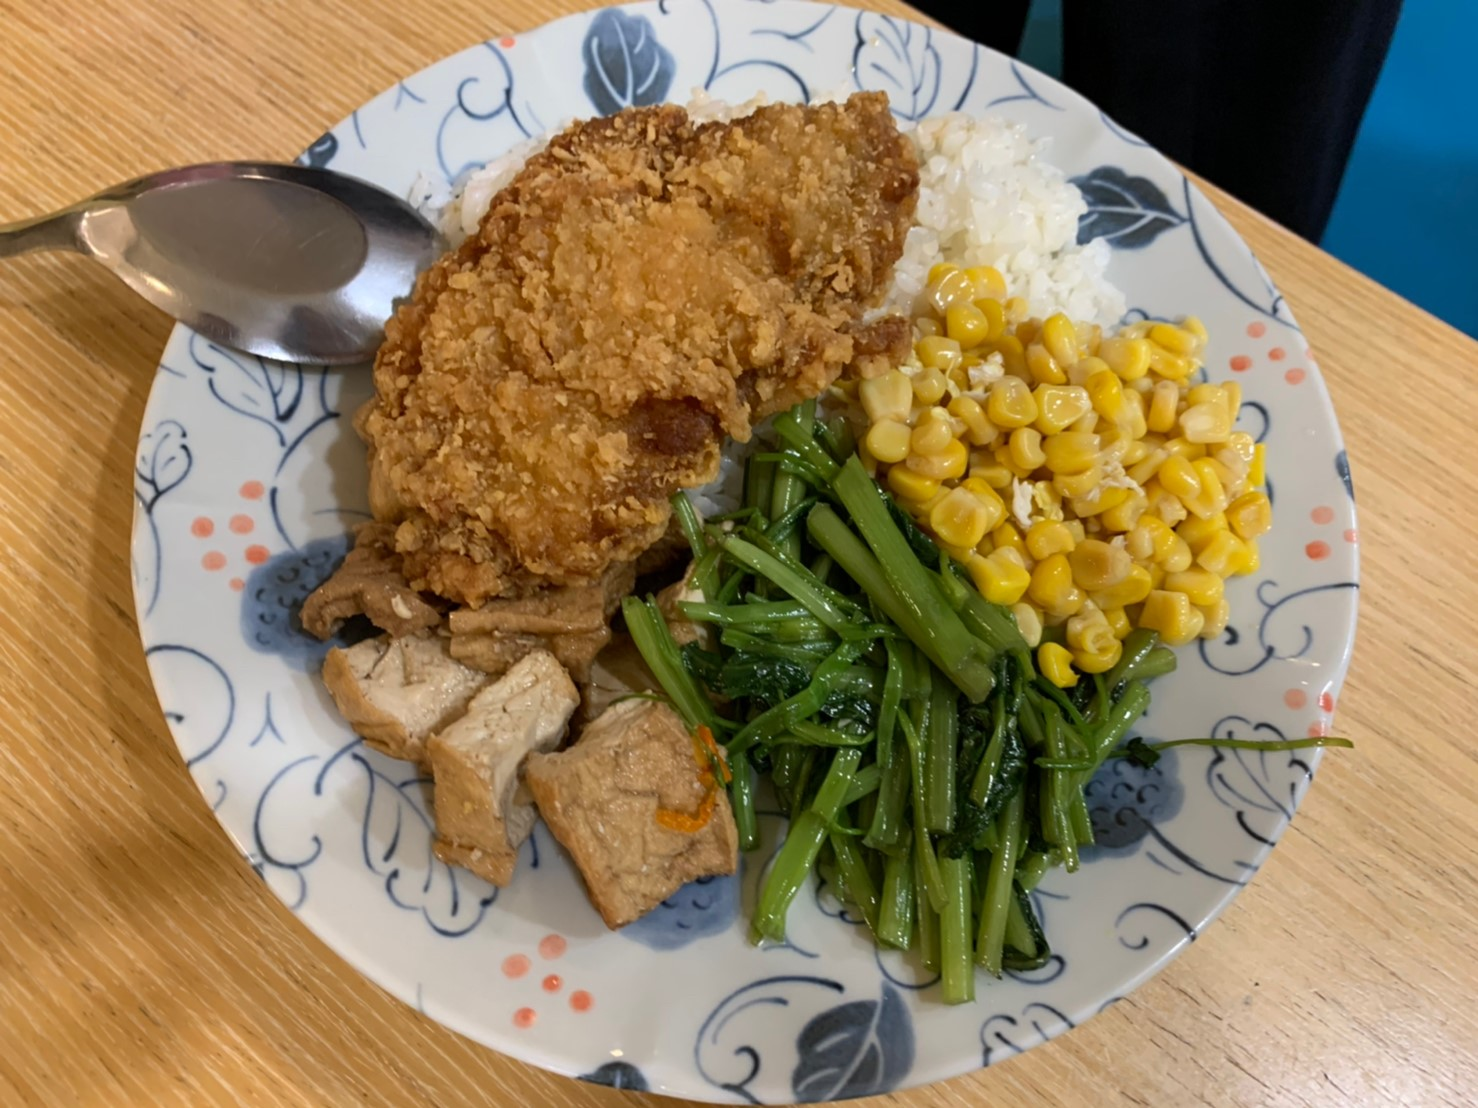fried_chicken: (369, 93, 909, 585)
water_spinach: (692, 493, 1128, 932)
